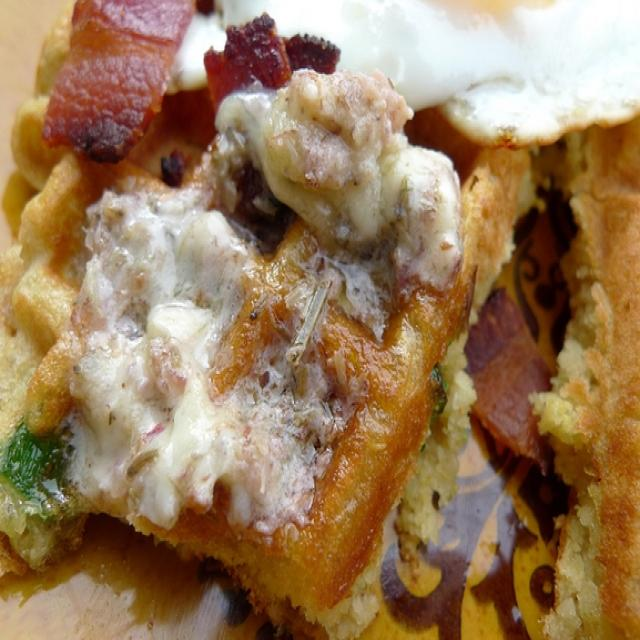炸货点心: (3, 5, 598, 634)
蛋糕甜品: (3, 5, 598, 634)
